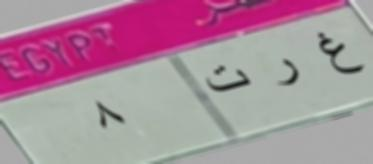8: (89, 96, 132, 134)
ghayn: (314, 26, 363, 83)
raa: (268, 55, 300, 94)
taa: (198, 62, 254, 98)
